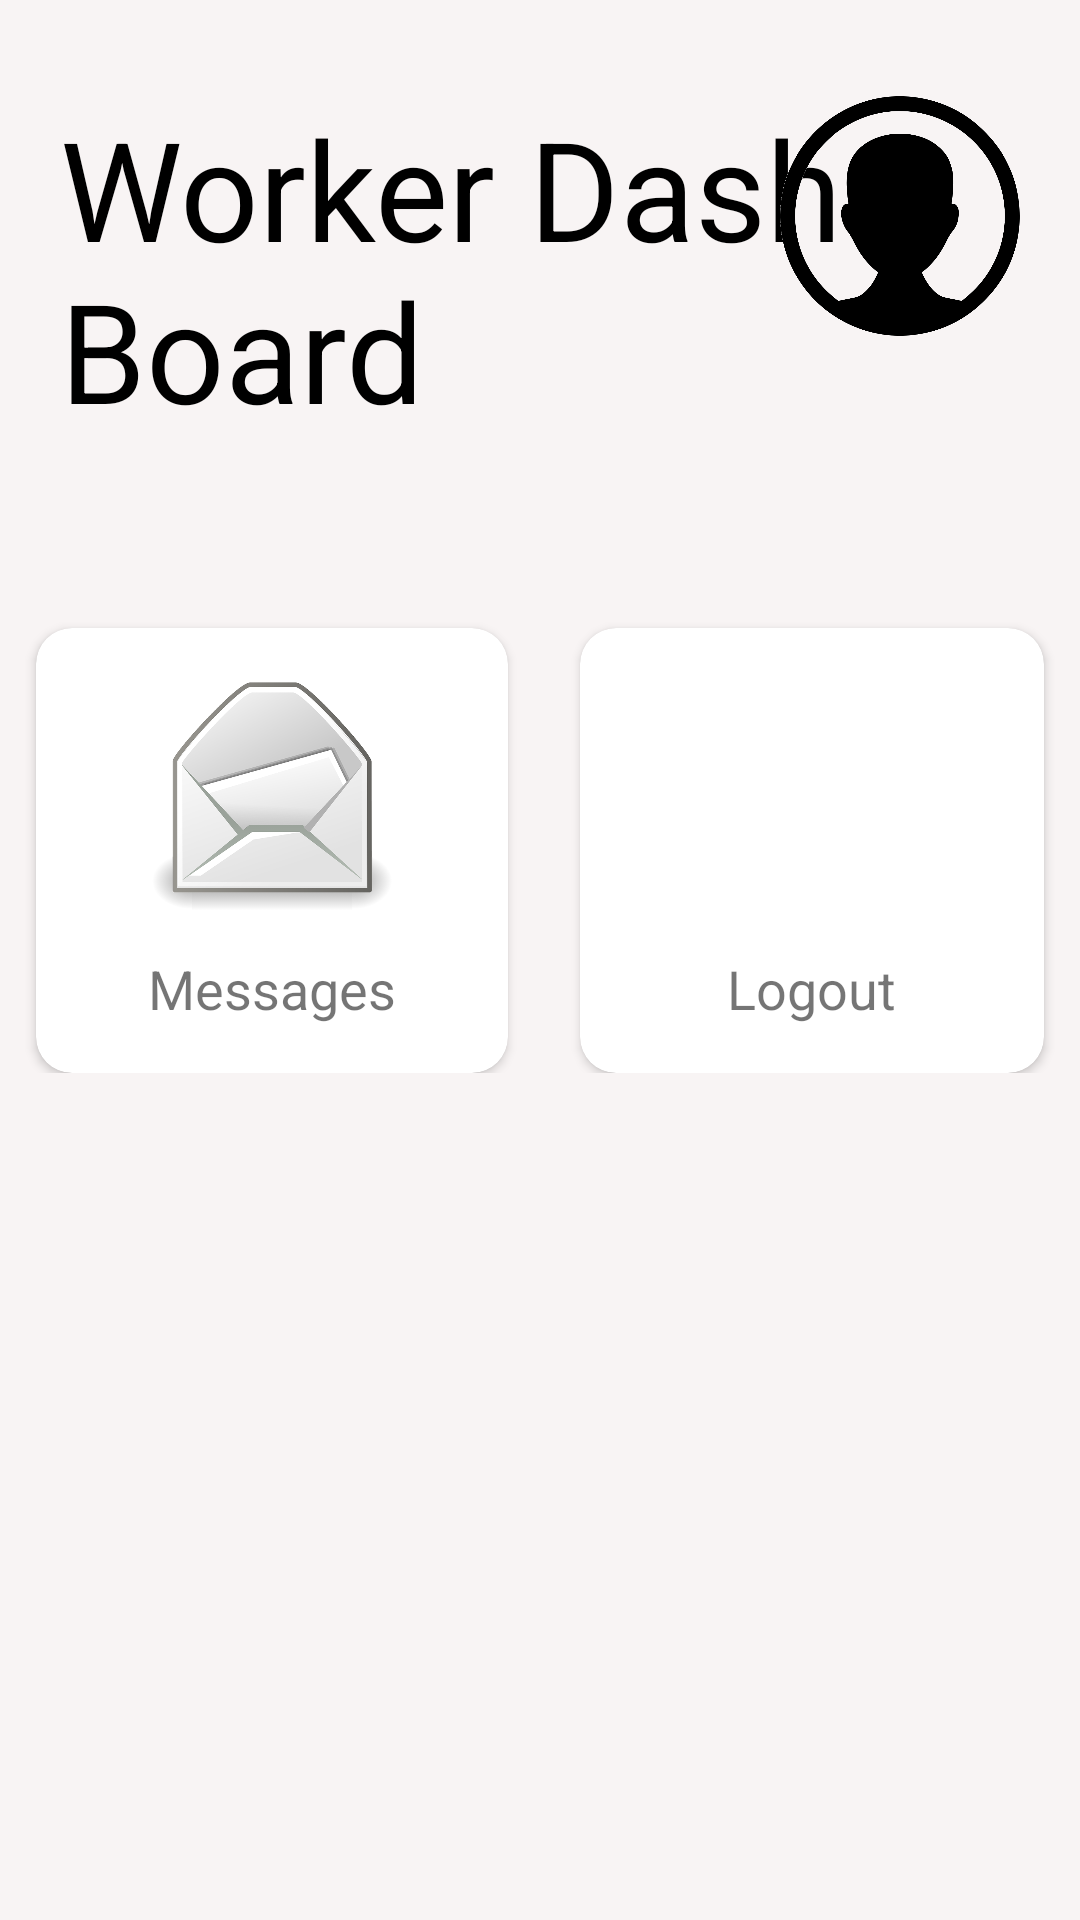

Icon bounding boxes for this 1080x1920 phone screenshot, format [x1, y1, x2, y2]:
workerprofile: [780, 96, 1020, 336]
